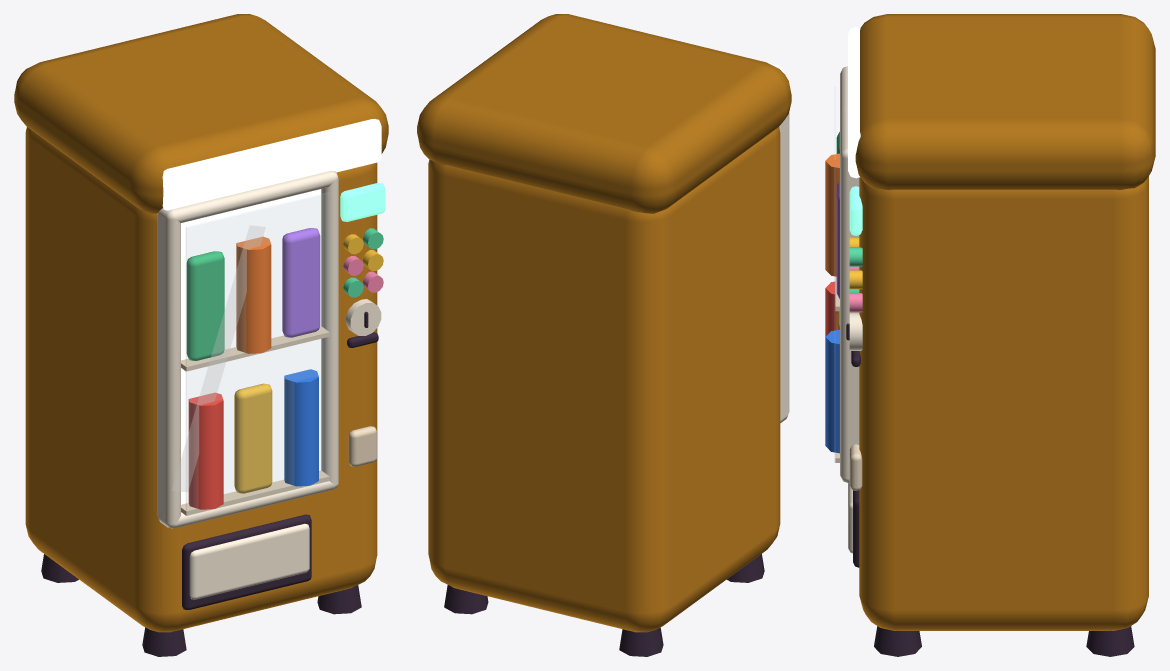
The model's file is machine-hotFood.glb.
The picture shows the model from 3 angles, left to right: view 1: azimuth 30°, elevation 25°; view 2: azimuth 150°, elevation 25°; view 3: azimuth 270°, elevation 25°; orthographic projection. The views are drawn at different scales.
Visible parts, largest first — view 1: cabinet, cap, glass, interior-back, header, frame-left, machine-hotFood, pickup-flap, frame-right, slot-0-0, slot-1-1, slot-0-1 (+10 smaller); view 2: cabinet, cap, frame-left, machine-hotFood; view 3: cabinet, cap, frame-right, machine-hotFood, slot-0-2, header, slot-1-1, glass, frame-top, screen, coin-return, slot-0-0 (+2 smaller).
Boxes of the visible parts, x1,y1,x2,y2 form: cabinet: (25,127,377,632); cap: (14,14,388,213); glass: (186,192,329,515); interior-back: (181,189,321,504); header: (162,119,381,210); frame-left: (157,208,180,528); machine-hotFood: (41,228,383,656); pickup-flap: (189,523,309,599); frame-right: (321,171,338,488); slot-0-0: (188,392,223,509); slot-1-1: (236,236,271,353); slot-0-1: (234,383,272,493); cabinet: (428,127,780,632); cap: (417,14,791,213); frame-left: (779,112,789,422); machine-hotFood: (444,554,764,656); cabinet: (859,176,1148,630); cap: (855,14,1155,189); frame-right: (840,151,859,482); machine-hotFood: (835,237,1134,656); slot-0-2: (825,329,839,453); header: (848,27,860,178); slot-1-1: (825,153,839,276); glass: (834,87,835,462); frame-top: (840,66,847,158); screen: (849,186,862,235); coin-return: (849,444,862,490); slot-0-0: (825,281,837,336).
Bounding box in the file's own units: 0.96 × 1.83 × 1.03.
